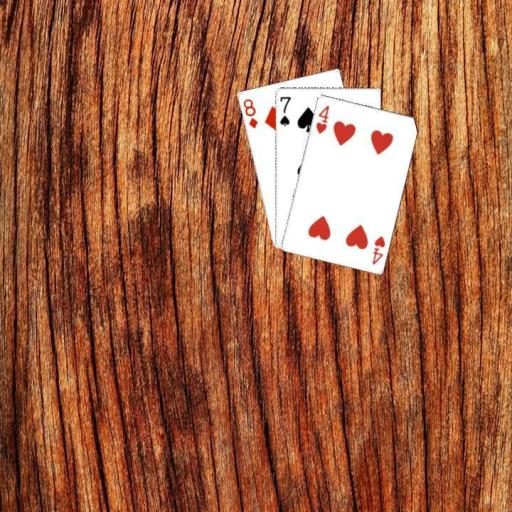card-corner: (368, 232, 387, 266), (240, 95, 258, 130), (312, 103, 331, 135), (276, 93, 292, 127)
